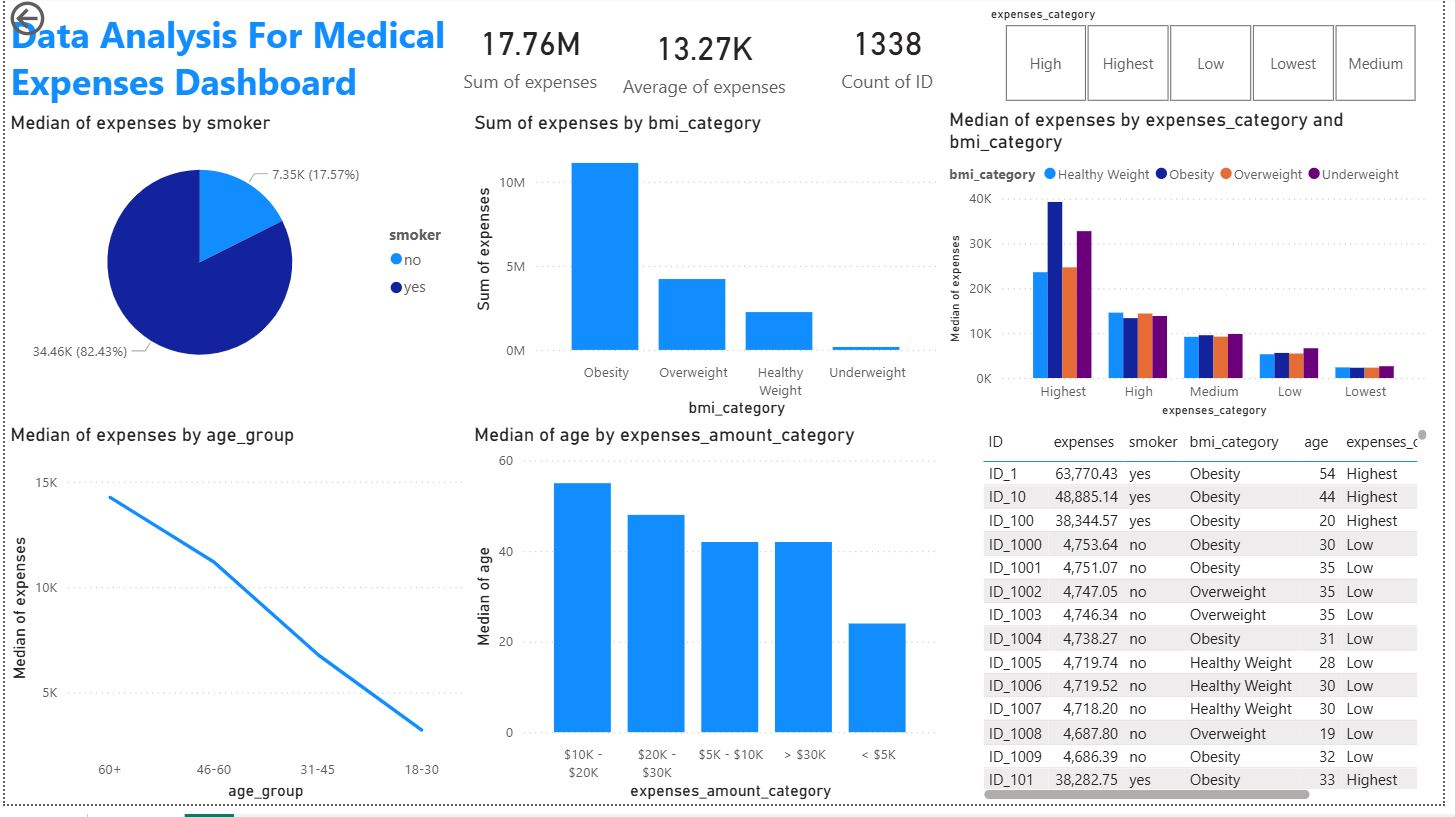

What the dashboard file says about the page in this screenshot:
{"tool":"powerbi","page":{"name":"Page 2","canvas":[1280,720],"ordinal":1},"visuals":[{"type":"clusteredBarChart","fields":{"Category":["Sheet1.bmi_category"],"Y":["Sum(Sheet1.expenses)"]},"box":[413.3,102.8,422.3,277.8],"z":0},{"type":"pieChart","fields":{"Series":["Sheet1.smoker"],"Y":["Median(Sheet1.expenses)"]},"box":[0,102.8,413.3,250.7],"z":1000},{"type":"lineChart","fields":{"Category":["Sheet1.age_group"],"Y":["Median(Sheet1.expenses)"]},"box":[0,380.5,413.3,339.9],"z":2000},{"type":"slicer","fields":{"Values":["Sheet1.expenses_category"]},"box":[864.9,4.5,415.5,96],"z":3000},{"type":"card","fields":{"Values":["Sum(Sheet1.expenses)"]},"box":[397.5,0,141.1,102.8],"z":4000},{"type":"textbox","box":[0,6.8,397.5,96],"z":5000},{"type":"card","fields":{"Values":["Avg(Sheet1.expenses)"]},"box":[538.6,7.9,168.2,96],"z":6000},{"type":"card","fields":{"Values":["CountNonNull(Sheet1.ID)"]},"box":[706.8,2.3,158.1,98.2],"z":7000},{"type":"clusteredColumnChart","fields":{"Y":["Median(Sheet1.expenses)"],"Category":["Sheet1.expenses_category"],"Series":["Sheet1.bmi_category"]},"box":[835.6,100.5,434.7,280],"z":8000},{"type":"clusteredColumnChart","fields":{"Y":["Median(Sheet1.age)"],"Category":["Sheet1.expenses_amount_category"]},"box":[413.3,380.5,422.3,339.9],"z":9000},{"type":"actionButton","box":[0,0,100,40],"z":10000},{"type":"tableEx","fields":{"Values":["Sheet1.ID","Sheet1.expenses","Sheet1.smoker","Sheet1.bmi_category","Sheet1.age","Sheet1.expenses_category","Sheet1.region"]},"box":[835.6,380.5,435.9,339.9],"z":11000}]}

Visuals, with their boxes in screenshot pixels (x1, y1, x2, y2), scaled from the page's 1280x720 canvas onto the 1455x817 screenshot:
clusteredBarChart - Sheet1.bmi_category x Sum(Sheet1.expenses): (x1=470, y1=117, x2=950, y2=432)
pieChart - Sheet1.smoker x Median(Sheet1.expenses): (x1=0, y1=117, x2=470, y2=401)
lineChart - Sheet1.age_group x Median(Sheet1.expenses): (x1=0, y1=432, x2=470, y2=816)
slicer - Sheet1.expenses_category: (x1=983, y1=5, x2=1454, y2=114)
card - Sum(Sheet1.expenses): (x1=452, y1=0, x2=612, y2=117)
textbox: (x1=0, y1=8, x2=452, y2=117)
card - Avg(Sheet1.expenses): (x1=612, y1=9, x2=803, y2=118)
card - CountNonNull(Sheet1.ID): (x1=803, y1=3, x2=983, y2=114)
clusteredColumnChart - Median(Sheet1.expenses) x Sheet1.expenses_category: (x1=950, y1=114, x2=1444, y2=432)
clusteredColumnChart - Median(Sheet1.age) x Sheet1.expenses_amount_category: (x1=470, y1=432, x2=950, y2=816)
actionButton: (x1=0, y1=0, x2=114, y2=45)
tableEx - Sheet1.ID x Sheet1.expenses: (x1=950, y1=432, x2=1445, y2=816)
